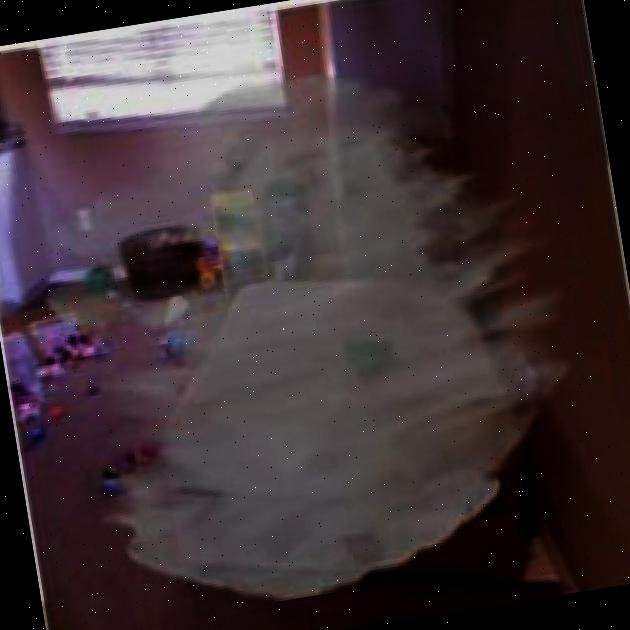smoke: (18, 38, 608, 630)
